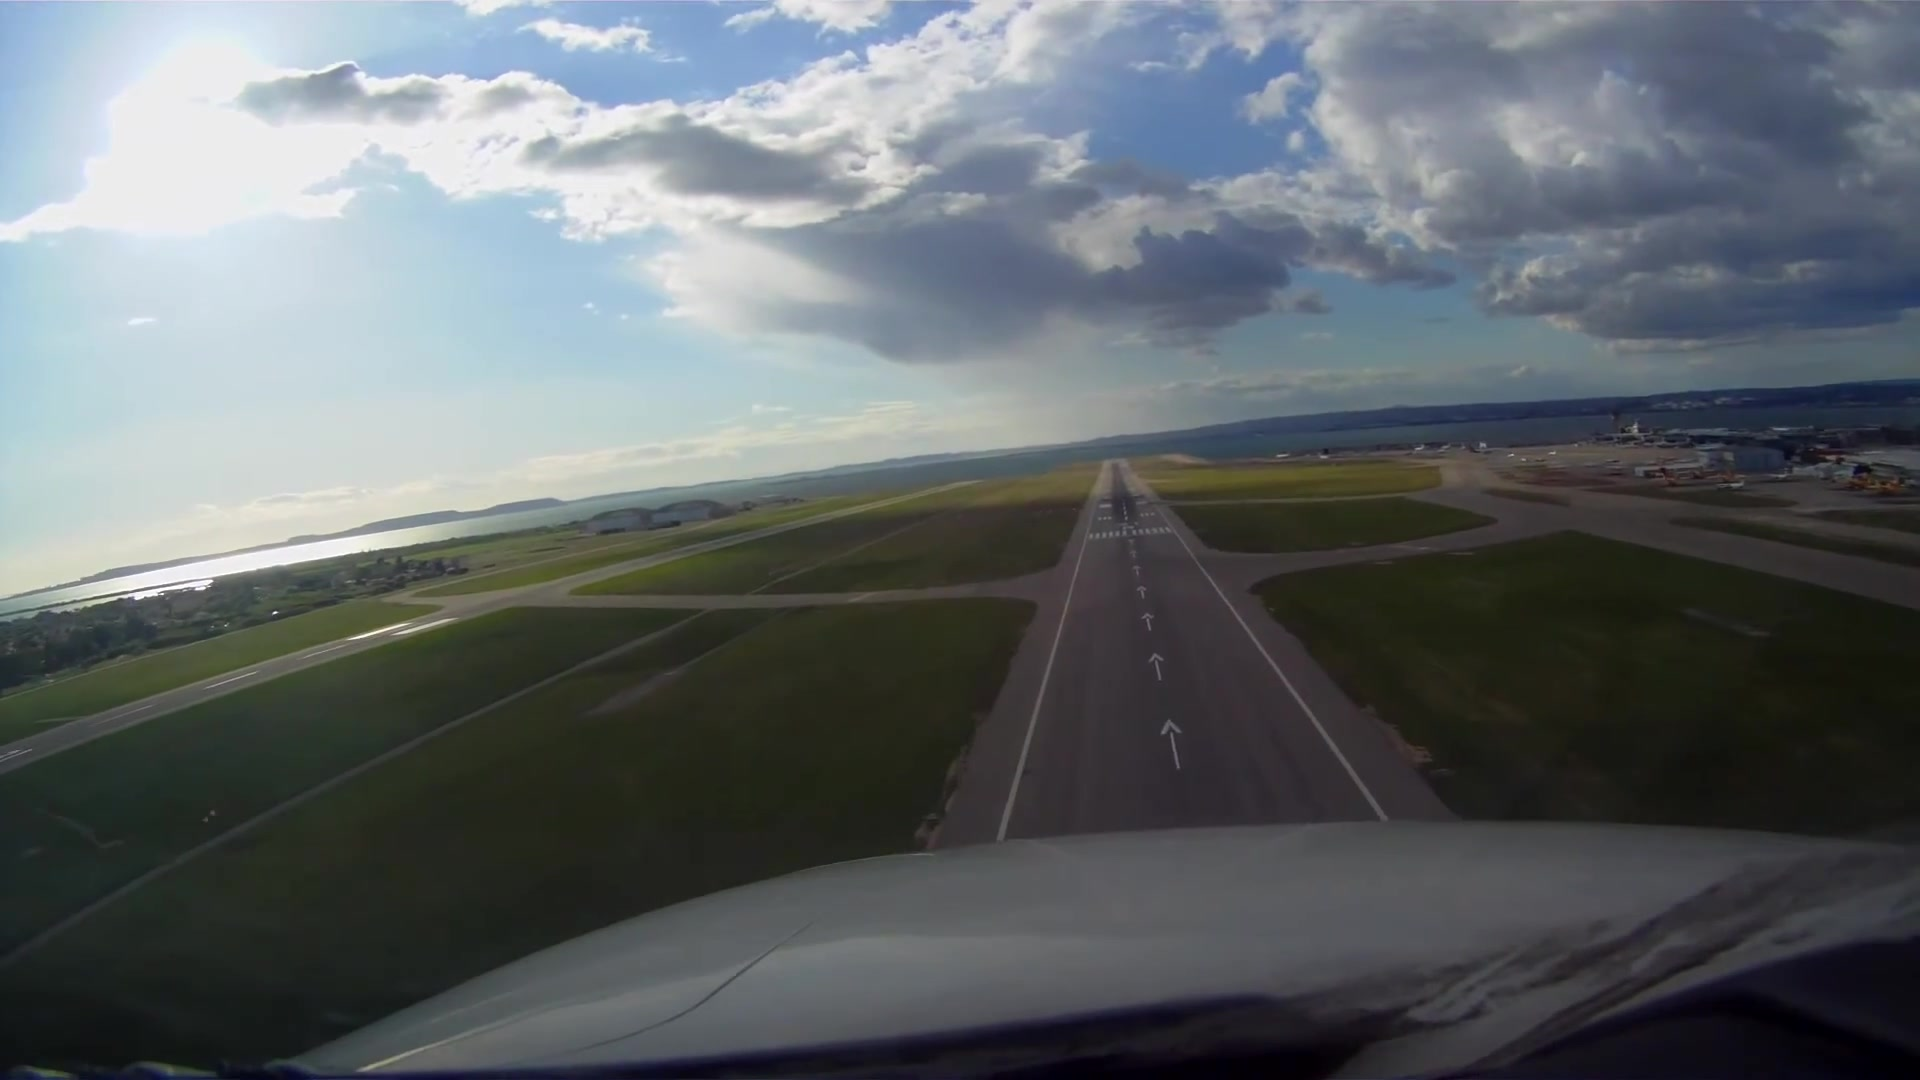entrance: (1085, 527, 1171, 542)
runway: (1073, 448, 1182, 549)
